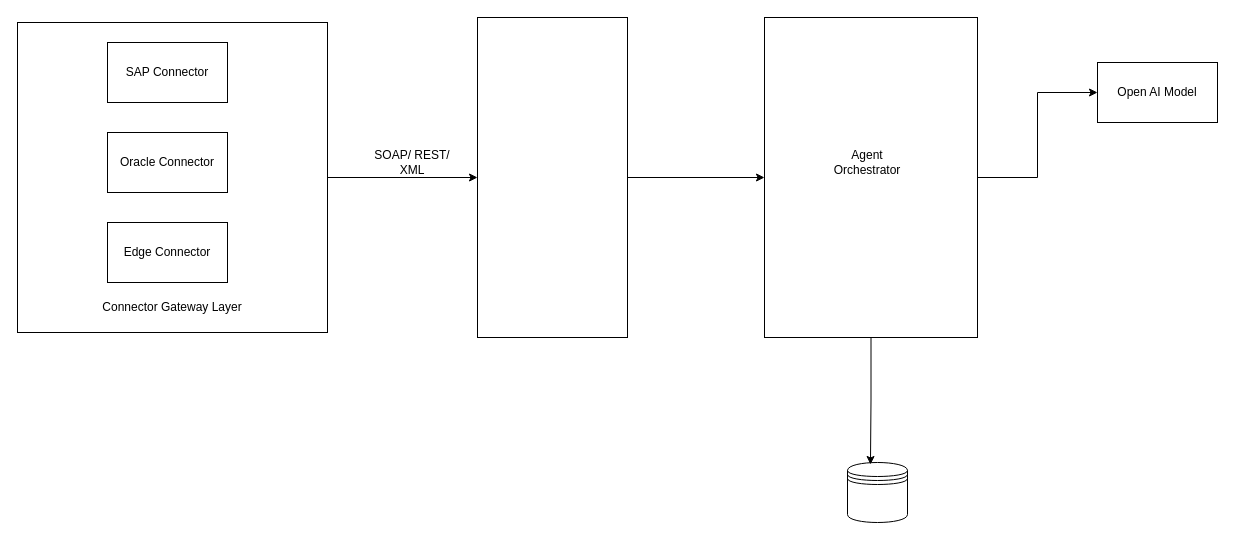
Image size: 1235x540. Some labels were removed from this diagram. The box of each missing label's shape, as (x1, y1, x2, y2) in pixels:
ERP Data Aggregation Layer: (476, 16, 628, 338)
ERP ODS: (846, 462, 908, 522)
